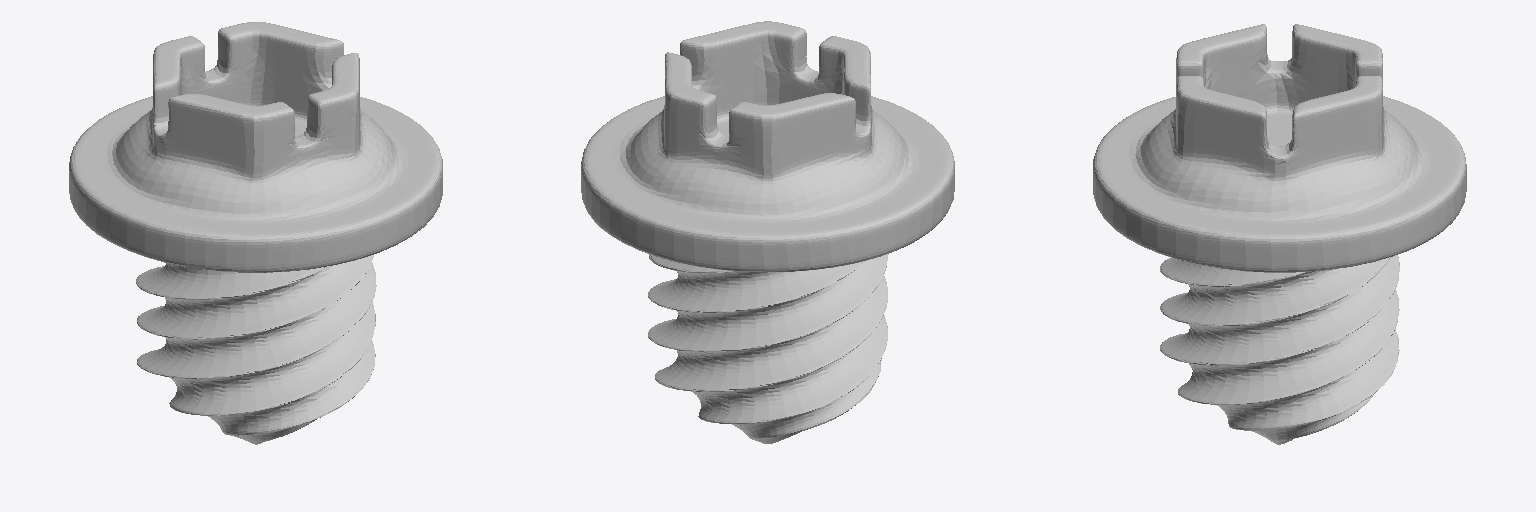
The model's file is screw.obj.
3 views of the same model, side by side, from view 1: azimuth 30°, elevation 25°; view 2: azimuth 150°, elevation 25°; view 3: azimuth 270°, elevation 25° (orthographic).
Visible parts, largest first — view 1: Screw; view 2: Screw; view 3: Screw.
Boxes of the visible parts, x1=… form: Screw: x1=69, y1=22, x2=442, y2=444; Screw: x1=581, y1=21, x2=954, y2=443; Screw: x1=1093, y1=24, x2=1466, y2=444.
Size of the model in its own units: 316 by 350 by 315.